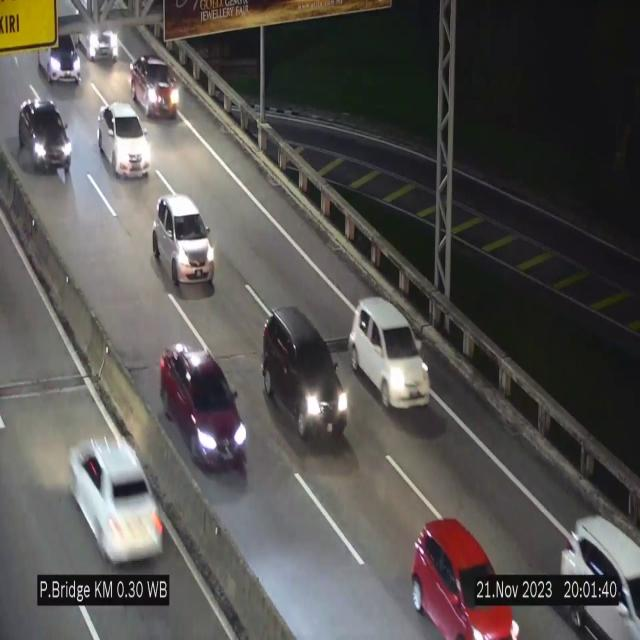Car: (265, 299, 352, 447), (160, 344, 248, 471), (349, 299, 433, 409), (152, 195, 214, 292), (16, 88, 73, 185), (127, 47, 181, 125), (98, 104, 150, 176)
